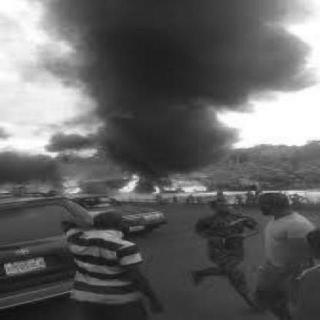Fire: (111, 166, 213, 193), (58, 175, 88, 193)
Smoke: (4, 1, 318, 165)
